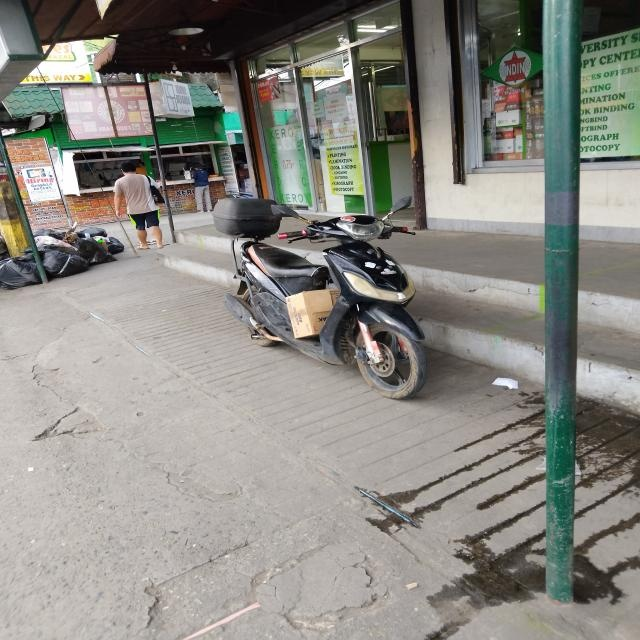Motorcycle: (235, 228, 448, 413)
